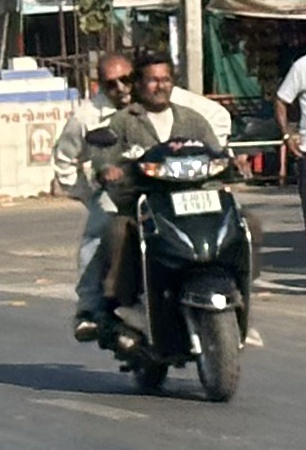BikeWithRider: (47, 38, 265, 410)
NoHelmet: (133, 55, 185, 115), (94, 47, 135, 108)
